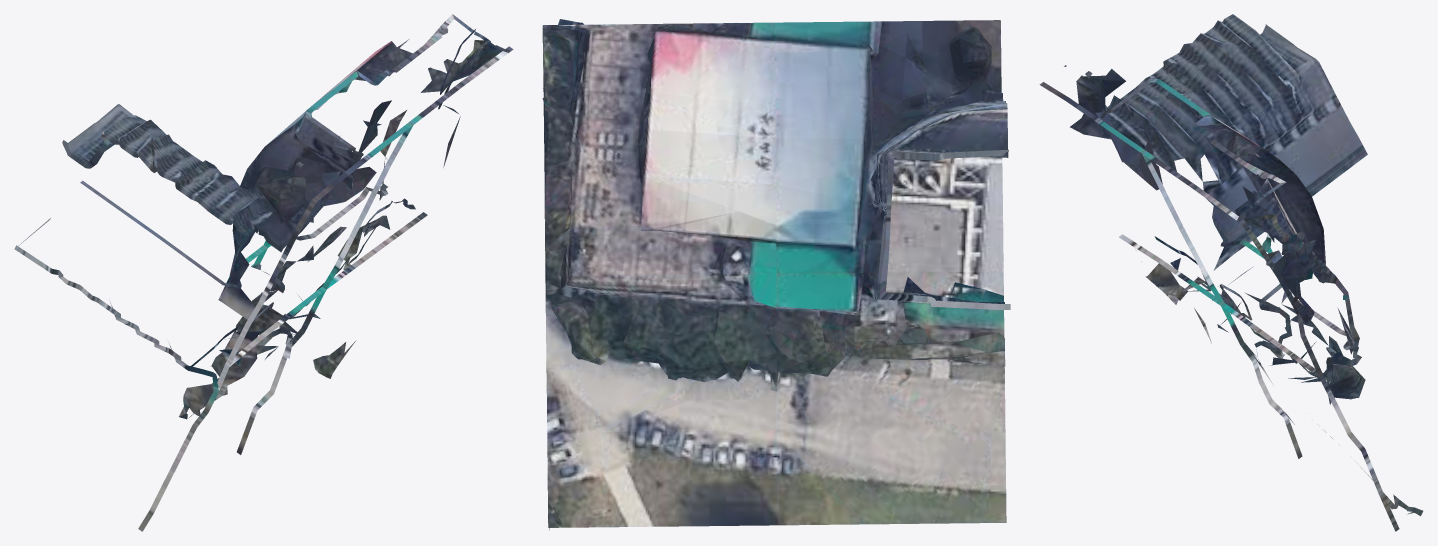
The picture shows the model from 3 angles, left to right: view 1: azimuth 30°, elevation 25°; view 2: azimuth 150°, elevation 25°; view 3: azimuth 270°, elevation 25°; orthographic projection. The views are drawn at different scales.
Size of the model in its own units: 89.32 by 74.84 by 68.9.
Materials: 1 (1 with a texture image).
